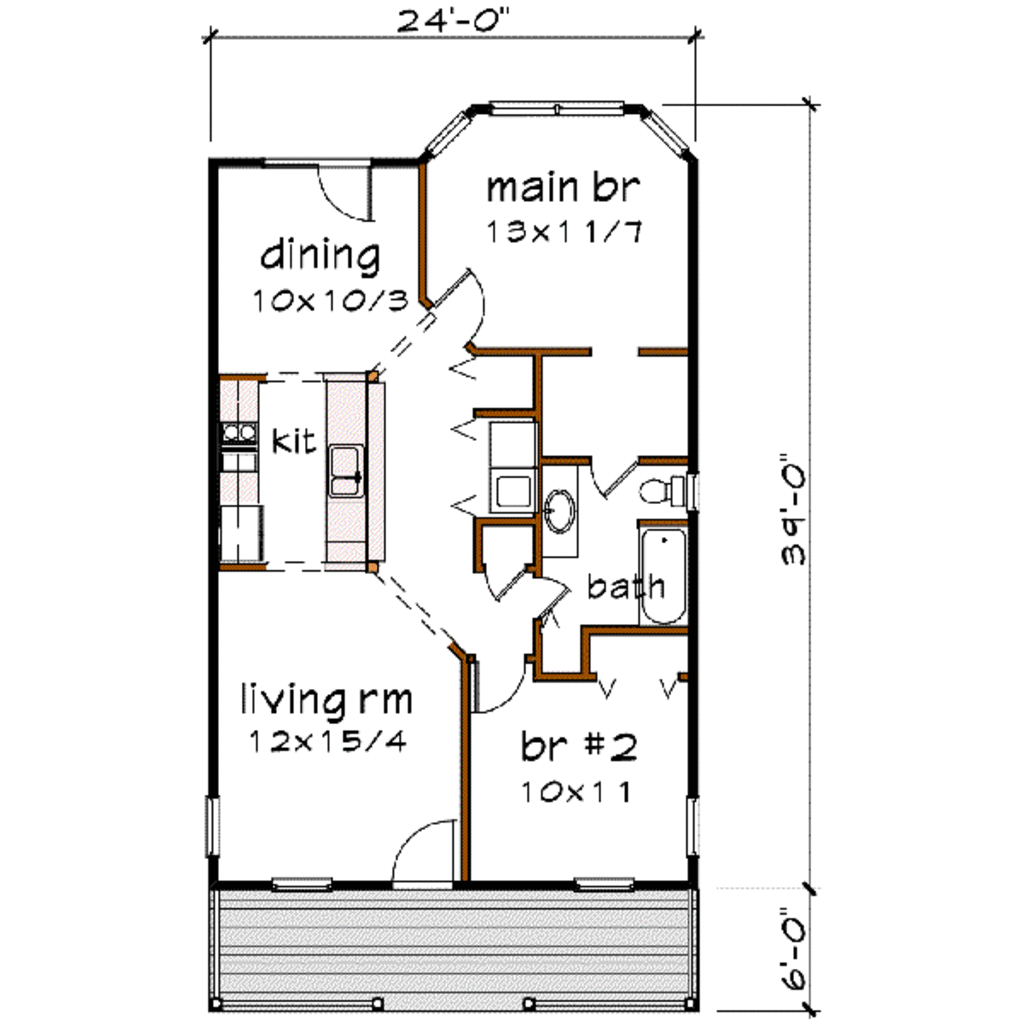door: (444, 641, 553, 735), (388, 801, 467, 905), (418, 239, 485, 347), (307, 151, 377, 239), (590, 430, 642, 500), (480, 551, 539, 606), (534, 568, 580, 632)
large_sink: (632, 458, 702, 516)
small_sink: (537, 465, 583, 555)
tub: (640, 519, 690, 619)
twin_sink: (318, 424, 378, 512)
window: (420, 90, 701, 160), (667, 793, 713, 870), (269, 871, 361, 908), (188, 778, 223, 874), (569, 862, 645, 895)
